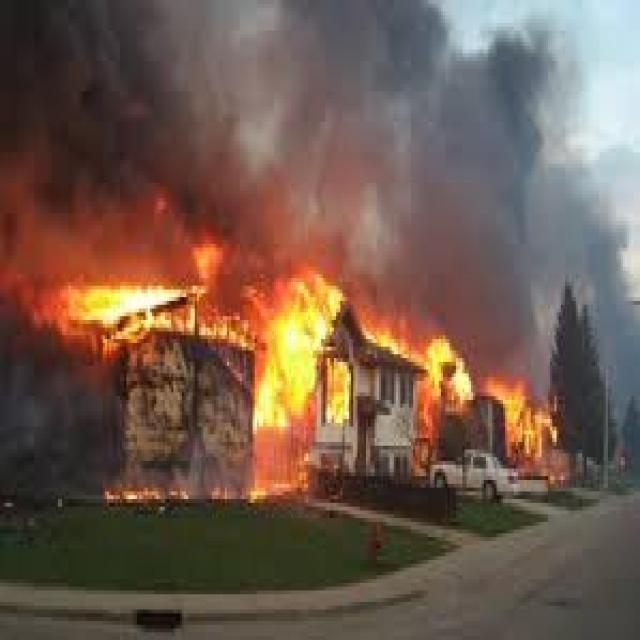Fire: (250, 271, 346, 432), (69, 245, 192, 361), (484, 368, 560, 466), (410, 330, 473, 438), (104, 475, 310, 507), (365, 308, 408, 358), (453, 368, 472, 404)
Smoke: (0, 48, 556, 246)
